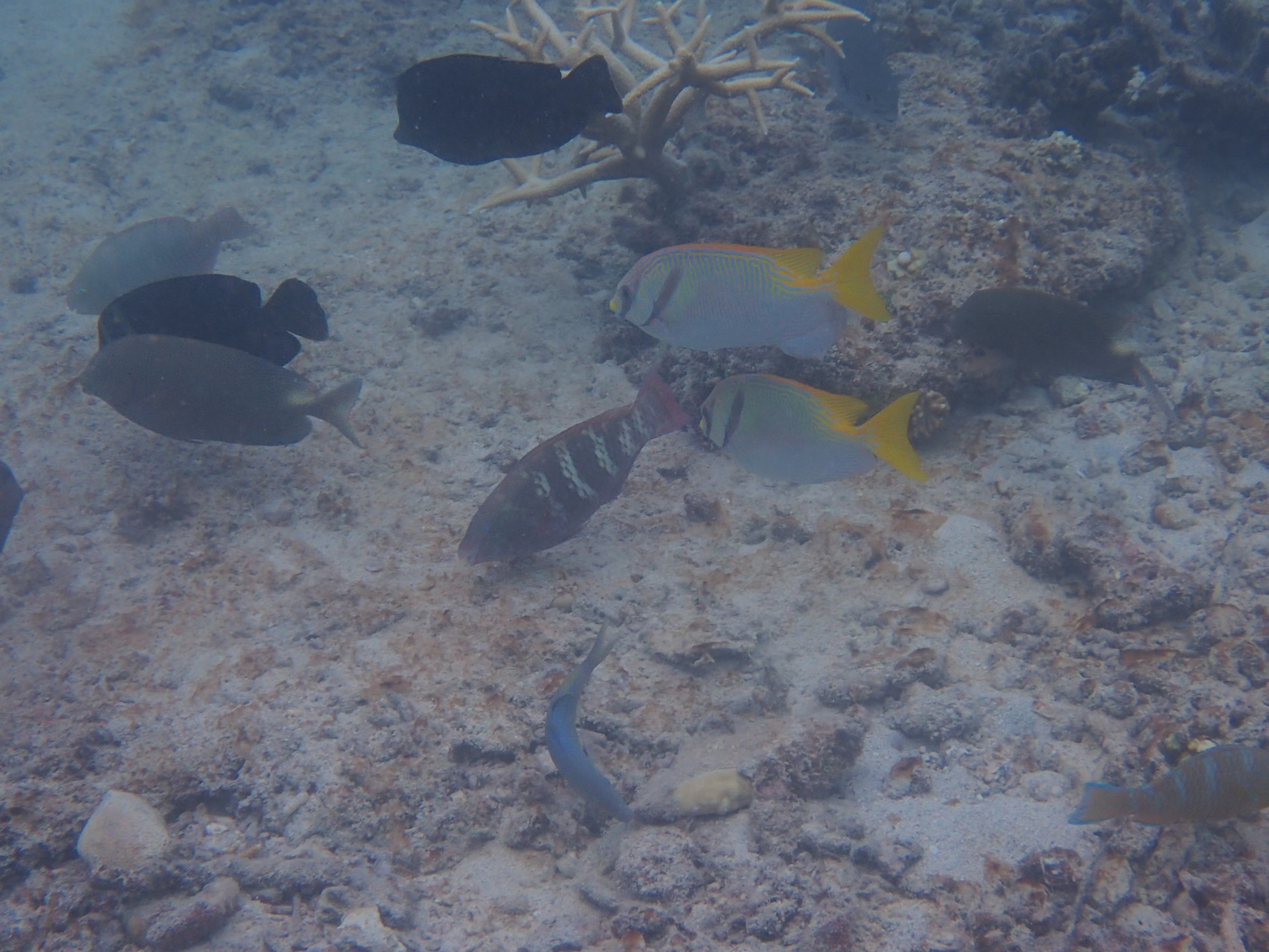fishbody: (609, 229, 891, 356), (692, 365, 933, 484)
fishhead: (610, 251, 678, 343), (691, 377, 751, 465)
